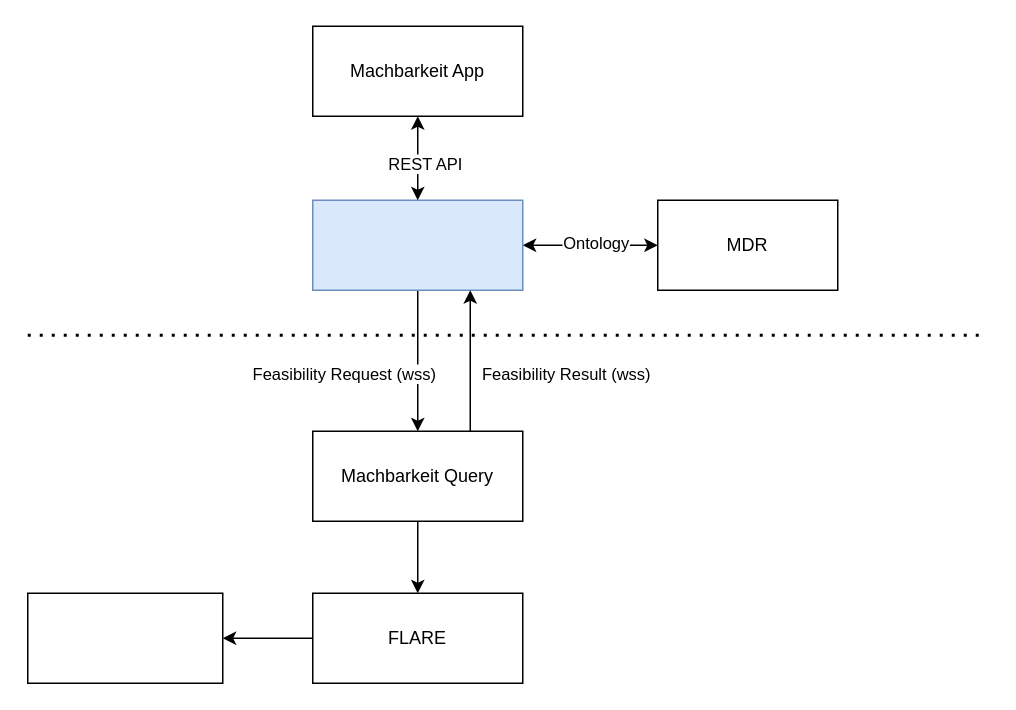
Some shapes in this 1016 by 710 pixel diagram are drawn without their labels. Each missing label, with the box of its shape:
FHIR Server: (26, 592, 223, 683)
Machbarkeit Backend: (311, 199, 523, 290)
